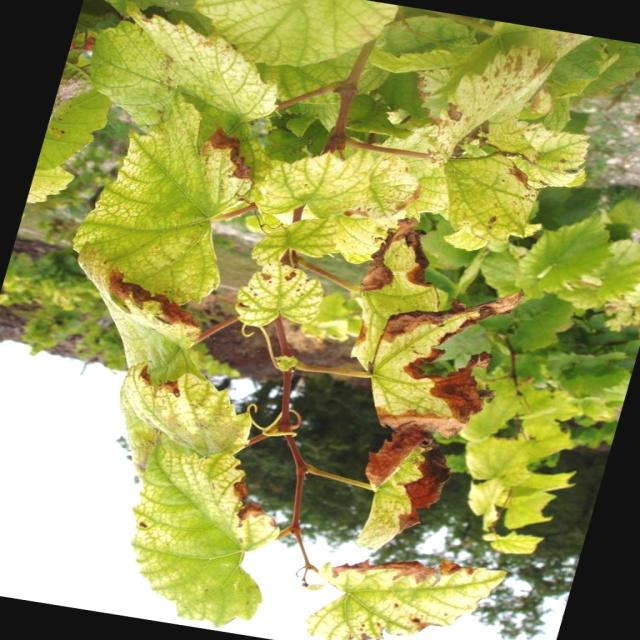Chlorosis: (38, 25, 590, 631)
